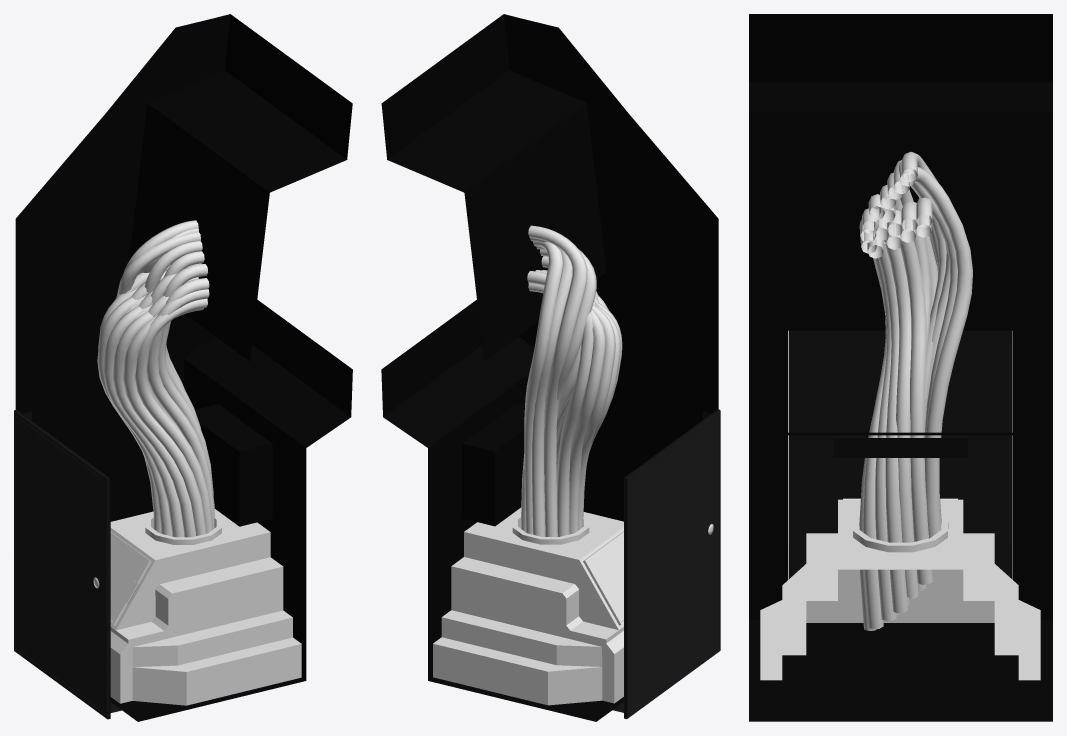
Rendered from cabinet.fbx.
The picture shows the model from 3 angles, left to right: view 1: azimuth 30°, elevation 25°; view 2: azimuth 150°, elevation 25°; view 3: azimuth 270°, elevation 25°; orthographic projection. The views are drawn at different scales.
Visible parts, largest first — view 1: BackCabinet, GameCartridgeDevice, Door; view 2: BackCabinet, GameCartridgeDevice, Door; view 3: BackCabinet, GameCartridgeDevice, Door.
Part boxes in pixels (x1=…): BackCabinet: x1=14, y1=14, x2=352, y2=721; GameCartridgeDevice: x1=97, y1=220, x2=301, y2=705; Door: x1=15, y1=416, x2=105, y2=713; BackCabinet: x1=381, y1=14, x2=720, y2=721; GameCartridgeDevice: x1=433, y1=225, x2=623, y2=705; Door: x1=629, y1=416, x2=718, y2=713; BackCabinet: x1=749, y1=14, x2=1052, y2=721; GameCartridgeDevice: x1=760, y1=151, x2=1040, y2=680; Door: x1=789, y1=330, x2=1012, y2=578.
Bounding box in the file's own units: 164 × 383 × 149.
